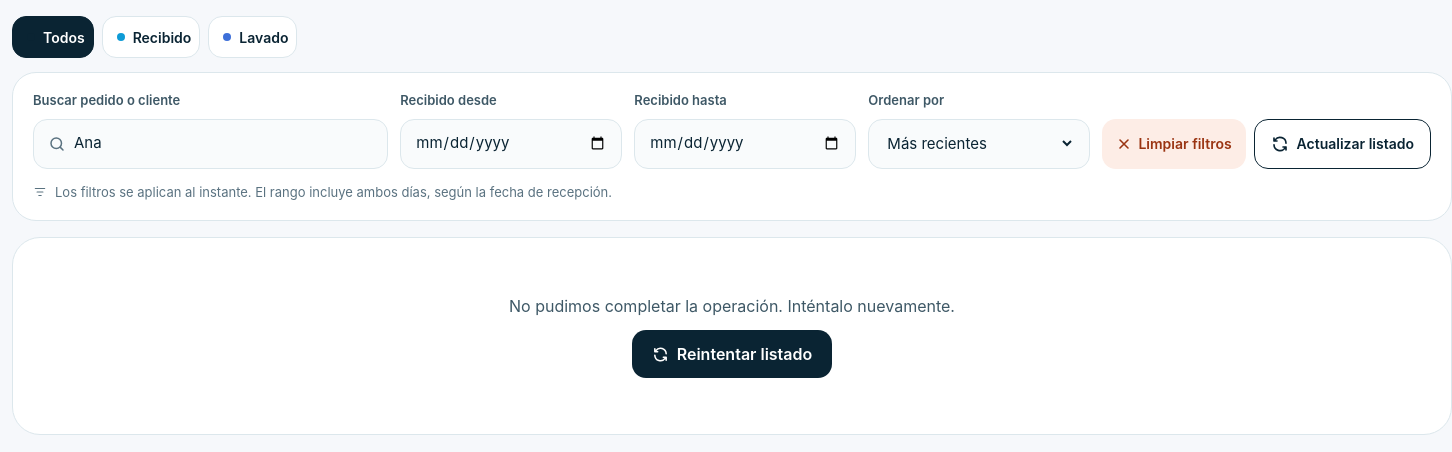
Test case: listado de pedidos › muestra errores y permite reintentar con los filtros aplicados
Expected: the message shows "No pudimos completar la operación", [509, 296, 955, 316]
Click the button "Reintentar listado": (732,354) [632, 330, 832, 378]
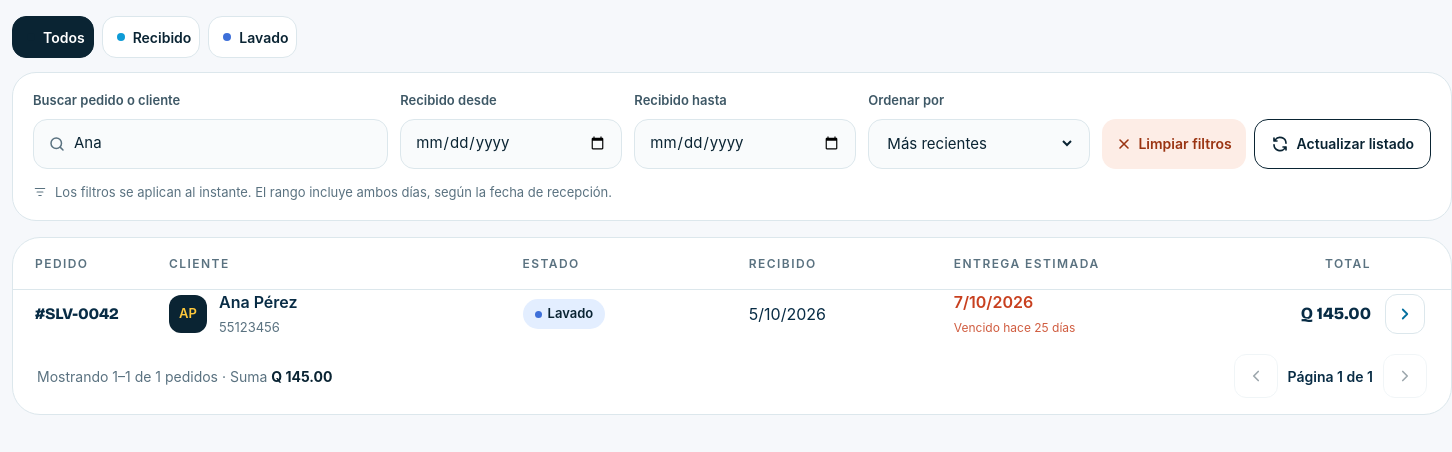
Result: the text "#SLV-0042" is shown at [35, 304, 119, 323]
